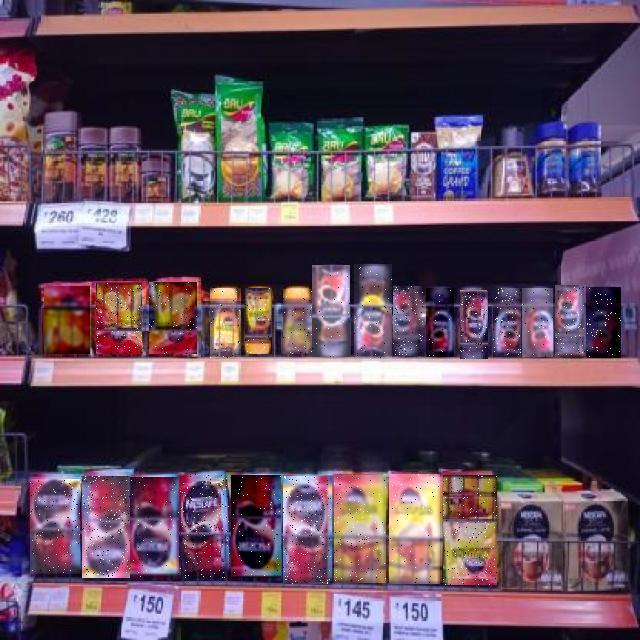Coffee: (443, 475, 497, 585), (390, 474, 442, 584), (334, 475, 386, 583), (178, 474, 230, 578), (231, 476, 281, 580), (284, 476, 332, 584), (130, 478, 179, 578), (82, 477, 130, 579), (31, 480, 81, 576), (354, 264, 392, 359), (313, 265, 351, 357), (149, 283, 197, 355), (96, 283, 142, 354), (44, 286, 90, 354), (587, 287, 621, 358), (556, 286, 588, 358), (210, 288, 241, 358), (522, 288, 553, 357), (394, 287, 424, 357), (426, 288, 454, 357), (493, 288, 521, 357), (460, 290, 488, 359), (283, 289, 312, 354), (245, 288, 272, 354)
